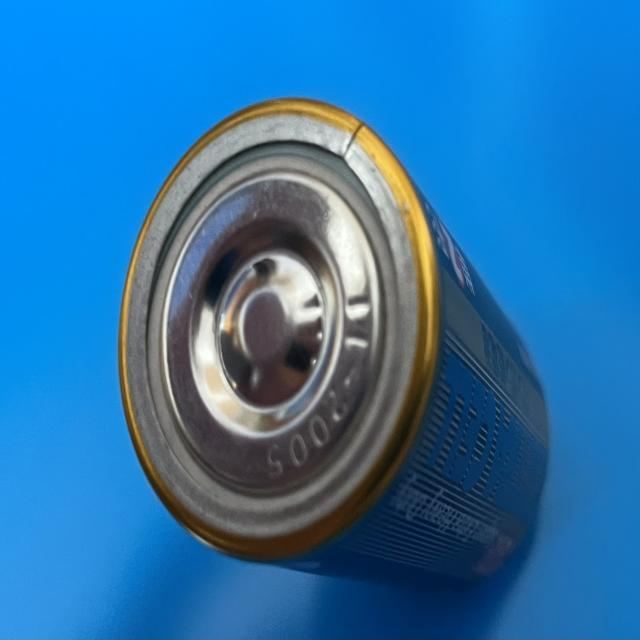hazardous waste: (112, 95, 550, 604)
